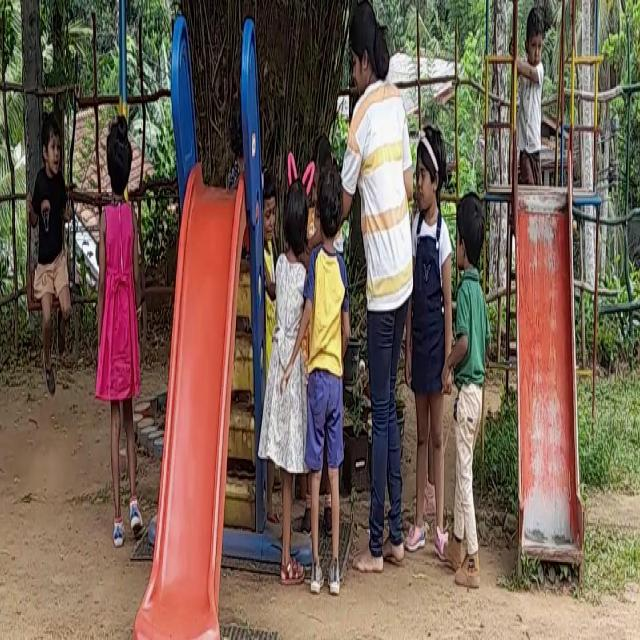adult: (348, 0, 408, 581)
child: (94, 105, 149, 566), (263, 157, 313, 591), (411, 100, 454, 559), (306, 144, 346, 604), (452, 186, 494, 557), (26, 105, 70, 380), (512, 1, 566, 180)
